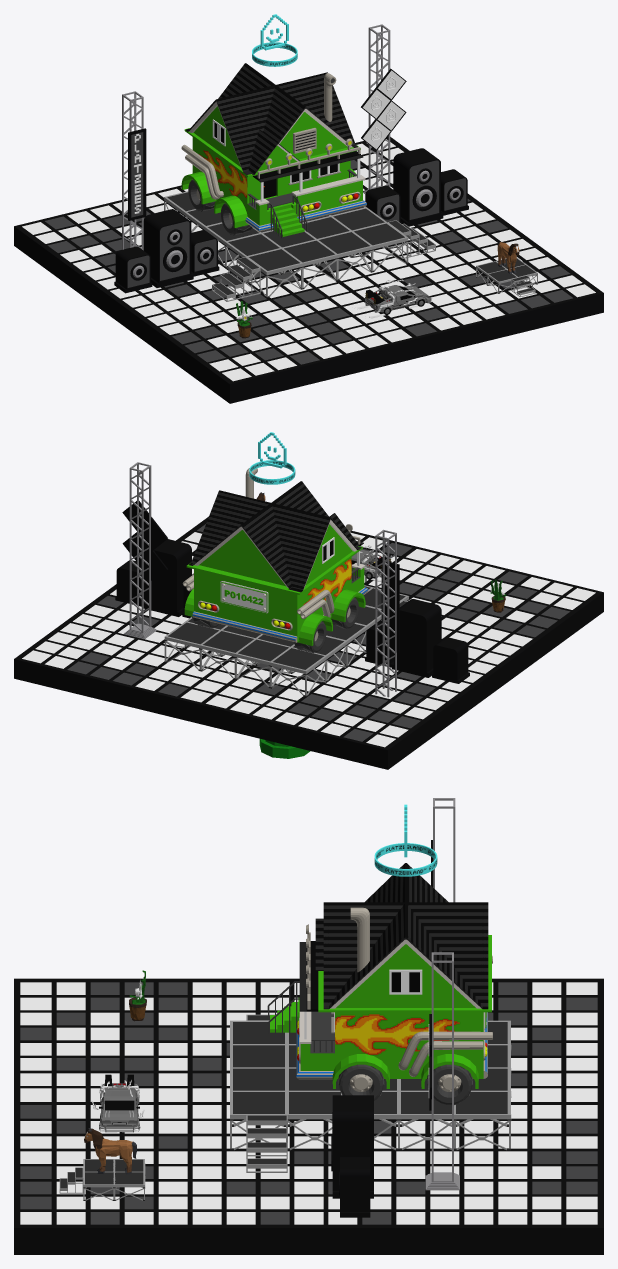
3 renders of one model, top to bottom at view 1: azimuth 30°, elevation 25°; view 2: azimuth 150°, elevation 25°; view 3: azimuth 270°, elevation 25°, orthographic. The views are drawn at different scales.
Parts seen in each view (by area): view 1: Cube.008, Cube.1474, VEHICLES_DELOREAN, TYPE_PREMIUM, ANIMAL_CABALLO; view 2: Cube.008, Cube.1474, TYPE_PREMIUM, UNDERGROUND_PIPES, VEHICLES_DELOREAN; view 3: Cube.008, Cube.1474, VEHICLES_DELOREAN, TYPE_PREMIUM, ANIMAL_CABALLO.
Part boxes in pixels (x1=…): Cube.008: x1=14, y1=24, x2=603, y2=403; Cube.1474: x1=181, y1=63, x2=366, y2=237; VEHICLES_DELOREAN: x1=357, y1=279, x2=431, y2=318; TYPE_PREMIUM: x1=252, y1=14, x2=297, y2=66; ANIMAL_CABALLO: x1=497, y1=242, x2=519, y2=274; Cube.008: x1=14, y1=462, x2=603, y2=769; Cube.1474: x1=182, y1=468, x2=368, y2=653; TYPE_PREMIUM: x1=249, y1=432, x2=295, y2=484; UNDERGROUND_PIPES: x1=259, y1=738, x2=310, y2=758; VEHICLES_DELOREAN: x1=351, y1=545, x2=403, y2=582; Cube.008: x1=14, y1=798, x2=603, y2=1254; Cube.1474: x1=267, y1=863, x2=492, y2=1105; VEHICLES_DELOREAN: x1=91, y1=1074, x2=144, y2=1132; TYPE_PREMIUM: x1=374, y1=804, x2=437, y2=876; ANIMAL_CABALLO: x1=84, y1=1128, x2=136, y2=1174.
Bounding box in the file's own units: 4000 × 3095 × 4000.
48 materials, 3 textured.
